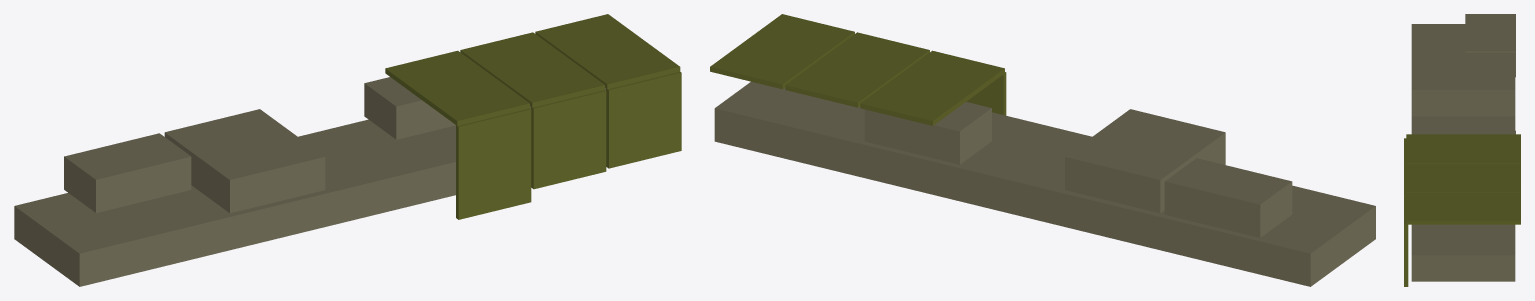
Rendered from SM_PretilTramo_v4_Red_e2_MuyDanado_LOD1.fbx.
The picture shows the model from 3 angles, left to right: view 1: azimuth 30°, elevation 25°; view 2: azimuth 150°, elevation 25°; view 3: azimuth 270°, elevation 25°; orthographic projection. The views are drawn at different scales.
Parts seen in each view (by area): view 1: SM_pretil_azotea_v18_LOD1; view 2: SM_pretil_azotea_v18_LOD1; view 3: SM_pretil_azotea_v18_LOD1.
Part boxes in pixels (<box>): SM_pretil_azotea_v18_LOD1: <box>14,14,681,286</box>; SM_pretil_azotea_v18_LOD1: <box>710,14,1375,286</box>; SM_pretil_azotea_v18_LOD1: <box>1404,14,1520,286</box>.
Bounding box in the file's own units: 5.07 × 0.7939 × 1.08.
